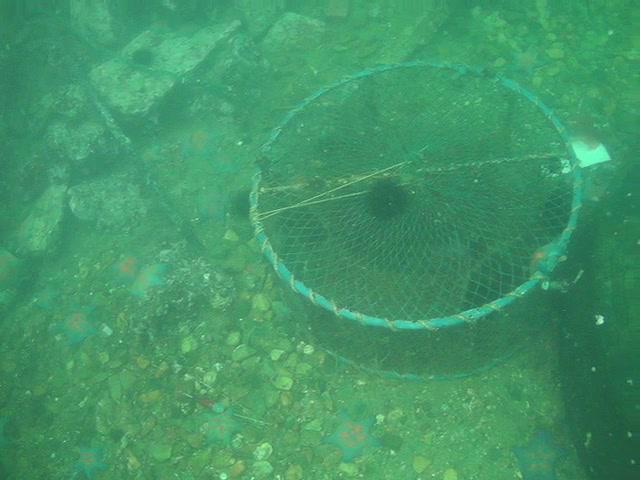circular fish trap: (250, 56, 588, 375)
